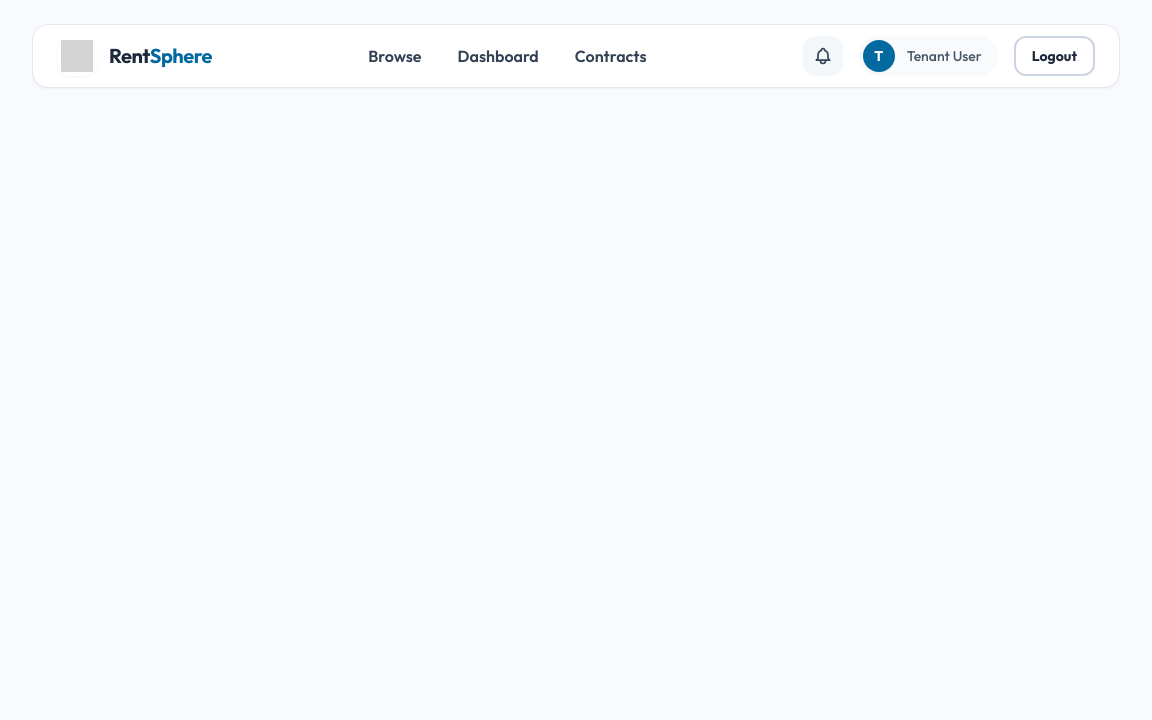
Scenario: Navbar › clicking Logout button opens confirmation modal
Click the button "Logout".
click(1054, 56)  # box [1014,36,1095,76]
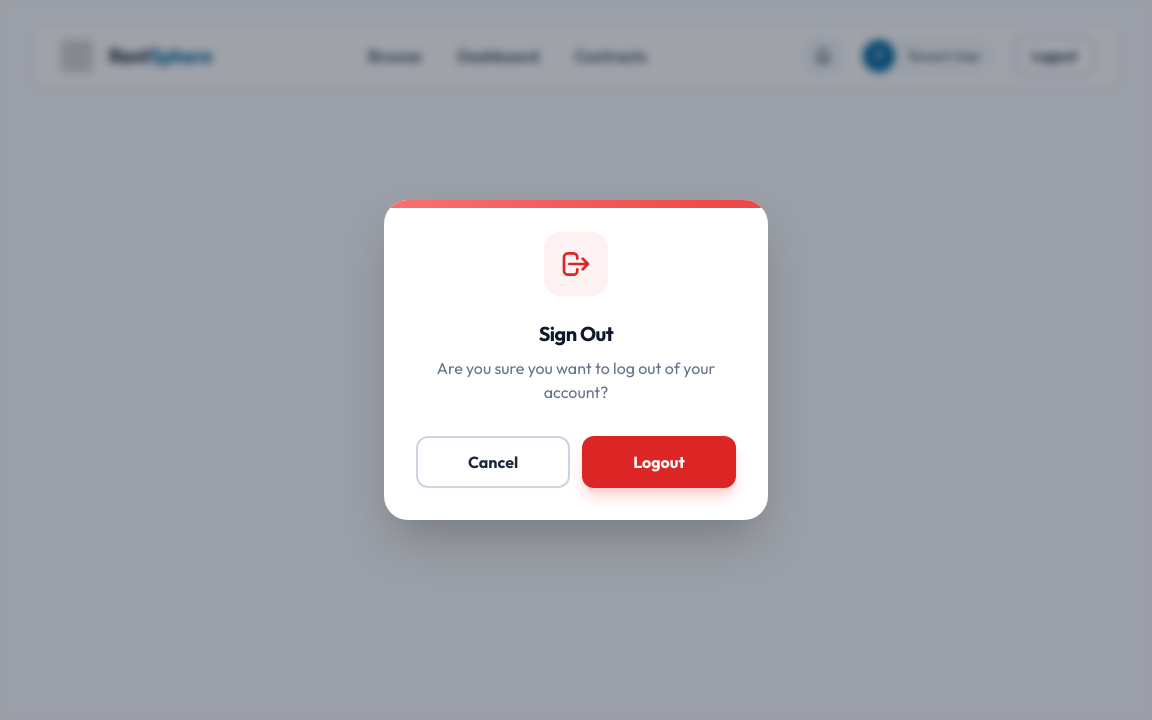
Check: the heading "Sign Out" is shown, box [539,321,613,346]
Check: the text "Are you sure you want to log out of your account?" is shown, box [416,356,736,404]
